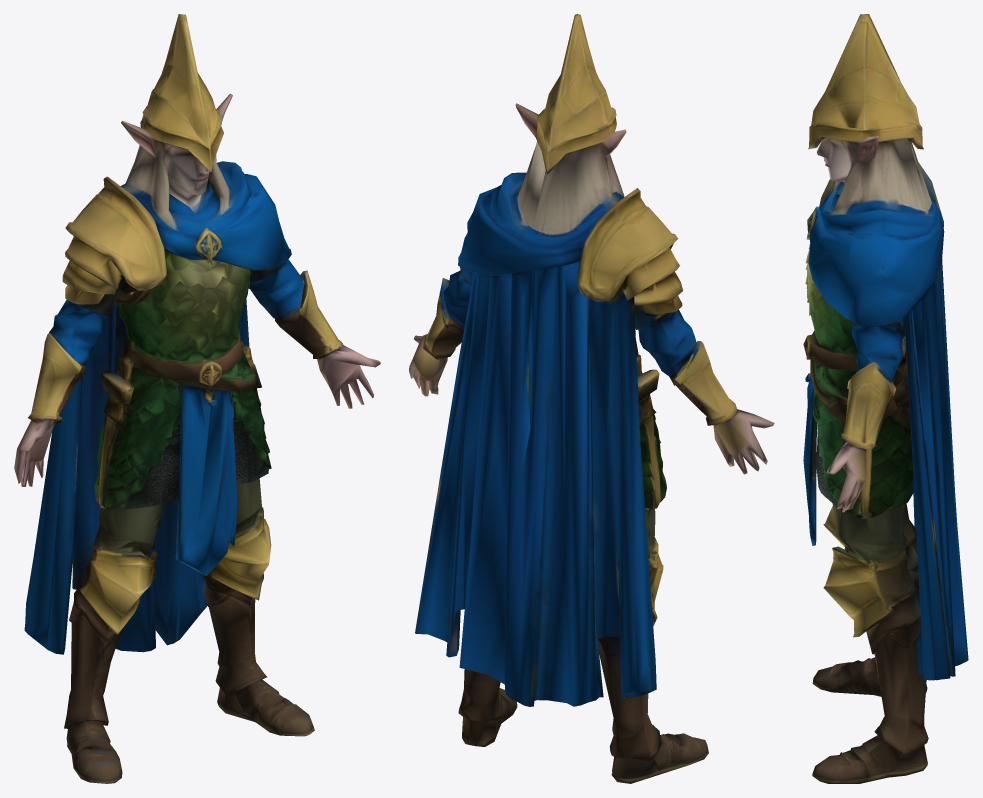
File: elf_spear.glb
The picture shows the model from 3 angles, left to right: view 1: azimuth 30°, elevation 25°; view 2: azimuth 150°, elevation 25°; view 3: azimuth 270°, elevation 25°; orthographic projection.
Visible parts, largest first — view 1: node_0; view 2: node_0; view 3: node_0.
Part boxes in pixels (x1,y1,x2,y2): node_0: [14, 14, 380, 783]; node_0: [409, 14, 774, 783]; node_0: [803, 14, 968, 783].
Size of the model in its own units: 0.5864 by 1.13 by 0.2365.
1 material, 1 textured.
